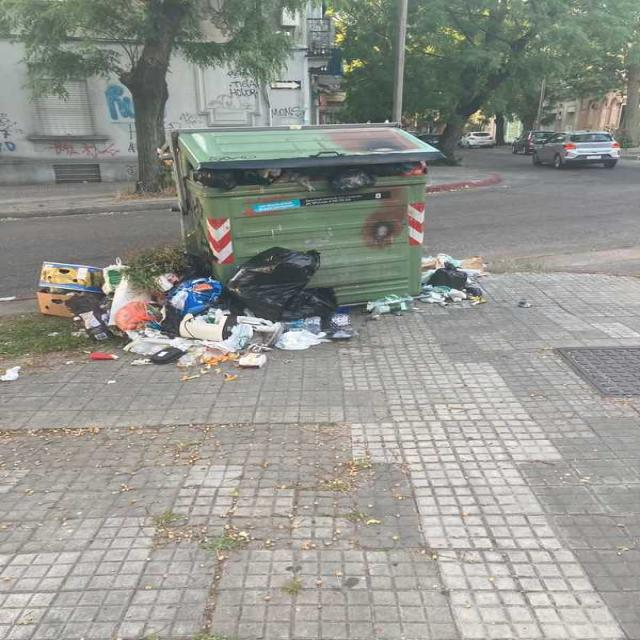garbage: (33, 253, 357, 372), (190, 158, 441, 194), (416, 242, 500, 316), (358, 282, 421, 326), (0, 354, 30, 392)
